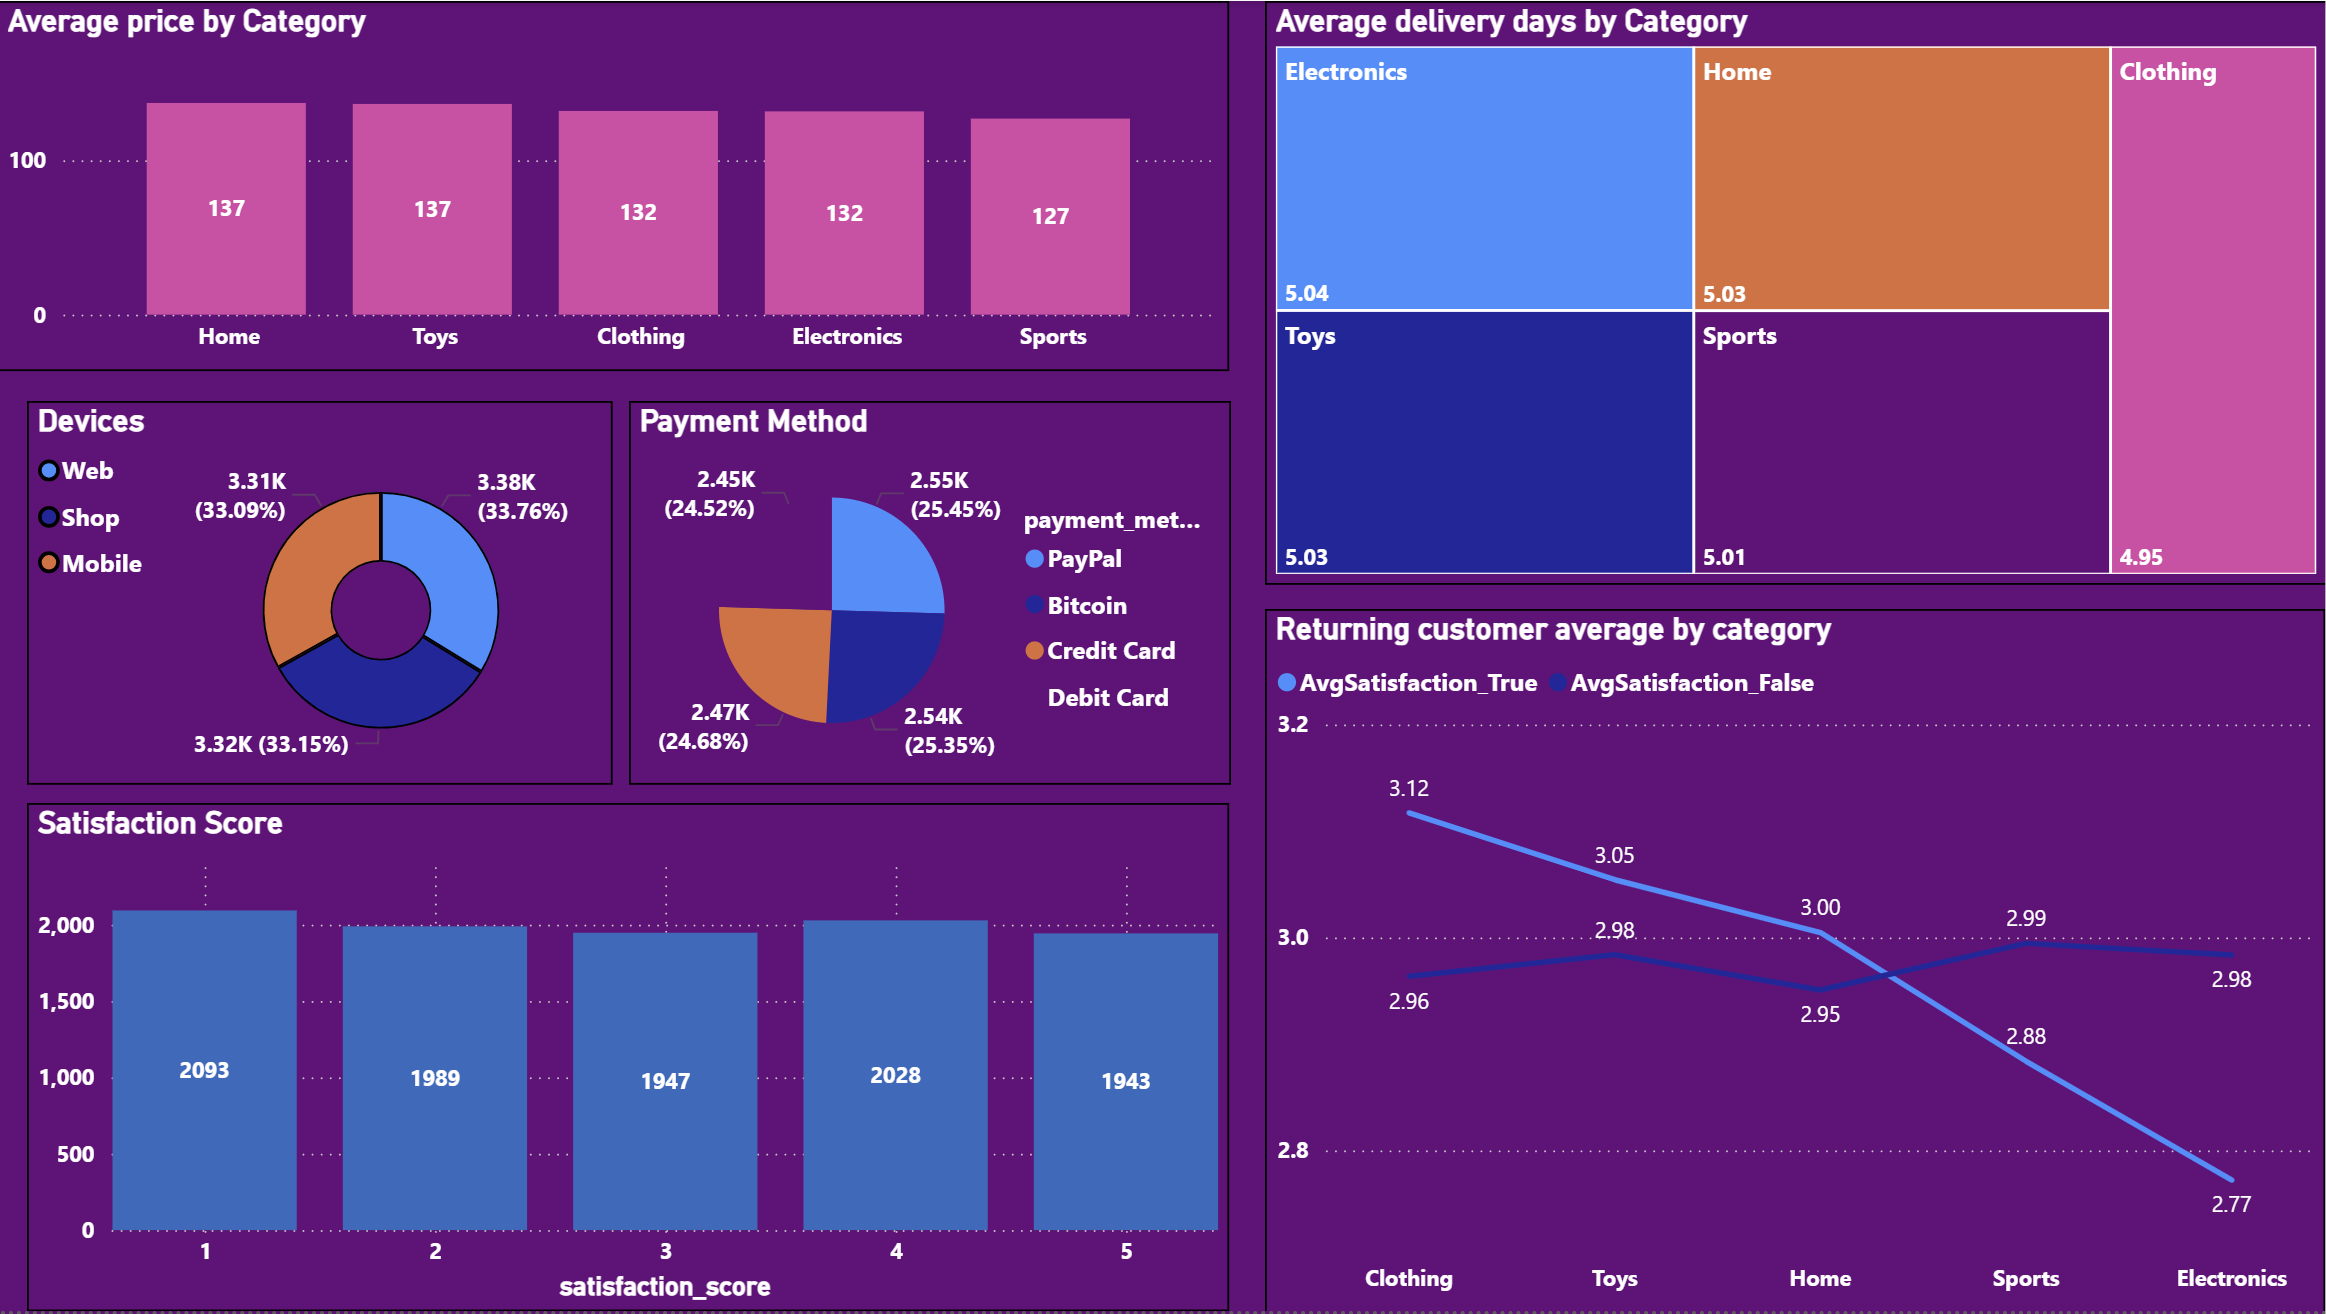

The dashboard page shown, as its layout file describes it:
{"tool":"powerbi","page":{"name":"Page 1","canvas":[1280,720],"ordinal":0},"visuals":[{"type":"clusteredColumnChart","title":"Satisfaction Score","fields":{"Category":["Append1.satisfaction_score"],"Y":["CountNonNull(Append1.user_id)"]},"box":[16.5,441,660.9,279.3],"z":0},{"type":"pieChart","title":"Payment Method  ","fields":{"Category":["Append1.payment_method"],"Y":["CountNonNull(Append1.user_id)"]},"box":[347.5,219.9,331,211.1],"z":1000},{"type":"clusteredColumnChart","title":"Average price by Category","fields":{"Y":["Avg(Append1.total_price)"],"Category":["Append1.category"]},"box":[0,0,677.4,203.4],"z":1001},{"type":"treemap","title":"Average delivery days by Category","fields":{"Group":["Append1.category"],"Values":["Avg(Append1.delivery_days)"]},"box":[697.2,0,583.9,321.1],"z":1002},{"type":"lineChart","title":"Returning customer average by category","fields":{"Y":["Append1.AvgSatisfactionReturning","Append1.AvgSatisfaction_False"],"Category":["Append1.category"]},"box":[697.2,334.3,582.8,387.1],"z":1003},{"type":"donutChart","title":"Devices","fields":{"Category":["Append1.device"],"Y":["CountNonNull(Append1.user_id)"]},"box":[16.5,219.9,322.2,211.1],"z":1004}]}

Visuals, with their boxes in screenshot pixels (x1, y1, x2, y2), scaled from the page's 1280x720 canvas onto the 2326x1314 screenshot:
"Satisfaction Score" clusteredColumnChart: {"left": 30, "top": 805, "right": 1231, "bottom": 1313}
"Payment Method  " pieChart: {"left": 631, "top": 401, "right": 1233, "bottom": 787}
"Average price by Category" clusteredColumnChart: {"left": 0, "top": 0, "right": 1231, "bottom": 371}
"Average delivery days by Category" treemap: {"left": 1267, "top": 0, "right": 2325, "bottom": 586}
"Returning customer average by category" lineChart: {"left": 1267, "top": 610, "right": 2325, "bottom": 1313}
"Devices" donutChart: {"left": 30, "top": 401, "right": 615, "bottom": 787}
